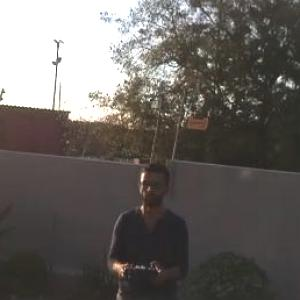follow: (103, 153, 199, 299)
